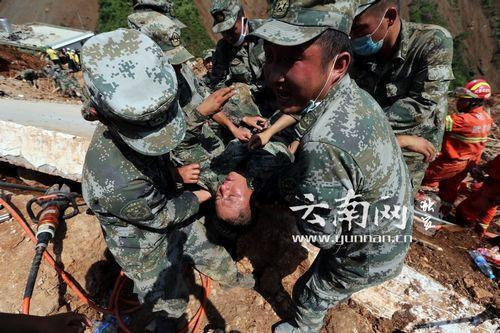Fall-Detected: (189, 60, 298, 267)
